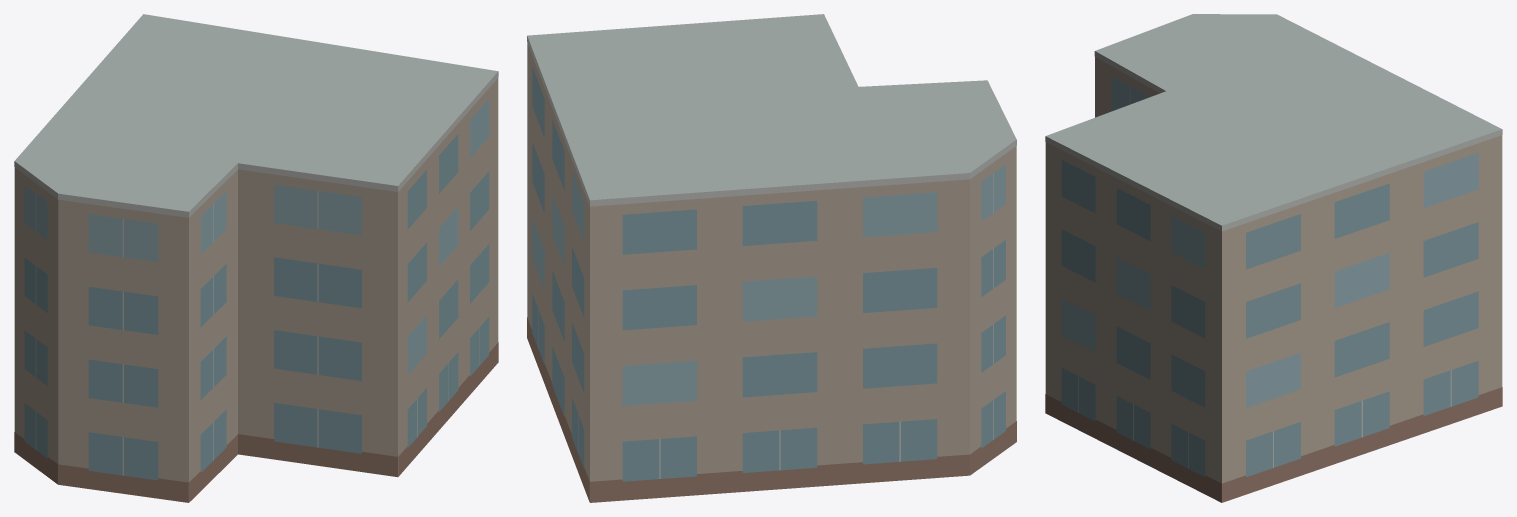
File: survey-upis-32781325.glb
3 views of the same model, side by side, from view 1: azimuth 30°, elevation 25°; view 2: azimuth 150°, elevation 25°; view 3: azimuth 270°, elevation 25° (orthographic). The views are drawn at different scales.
Visible parts, largest first — view 1: survey-upis-32781325.tmp; view 2: survey-upis-32781325.tmp; view 3: survey-upis-32781325.tmp.
Boxes of the visible parts, x1,y1,x2,y2 form: survey-upis-32781325.tmp: (14,14,498,502); survey-upis-32781325.tmp: (527,14,1016,502); survey-upis-32781325.tmp: (1045,14,1502,502).
Bounding box in the file's own units: 19.18 × 11.7 × 17.49.
